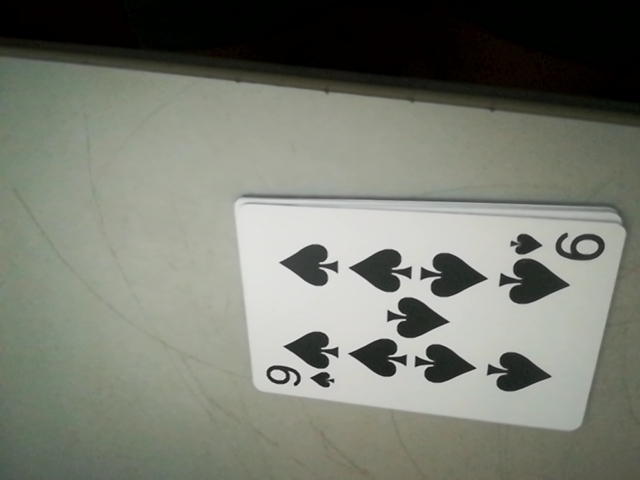ht 9: (507, 226, 612, 263), (256, 363, 345, 397)
